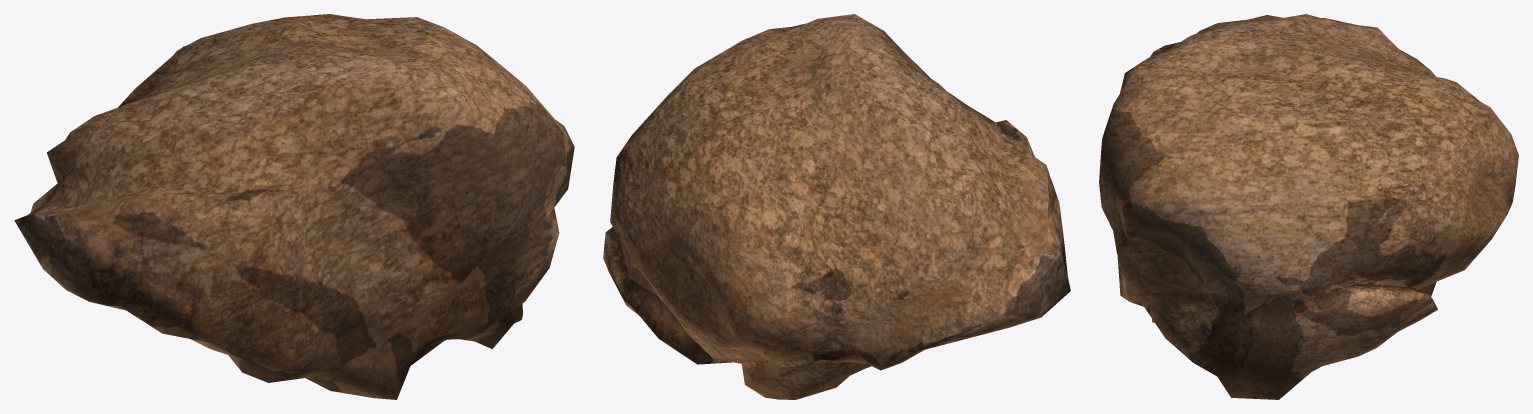
The model's file is mm7_deco_7rock02.glb.
3 views of the same model, side by side, from view 1: azimuth 30°, elevation 25°; view 2: azimuth 150°, elevation 25°; view 3: azimuth 270°, elevation 25° (orthographic). The views are drawn at different scales.
Parts seen in each view (by area): view 1: Rock7_02; view 2: Rock7_02; view 3: Rock7_02.
Part boxes in pixels (x1,y1,x2,y2): Rock7_02: (14, 14, 574, 399); Rock7_02: (603, 14, 1070, 399); Rock7_02: (1099, 14, 1518, 399).
Size of the model in its own units: 2.34 by 1.55 by 1.96.
Materials: 1 (1 with a texture image).
